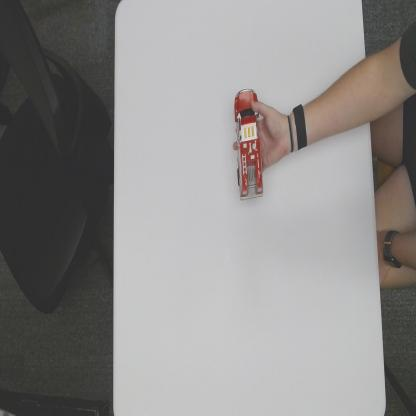Arm: (312, 39, 368, 153)
Firetruck: (234, 85, 264, 202)
Hand: (262, 92, 292, 172)
